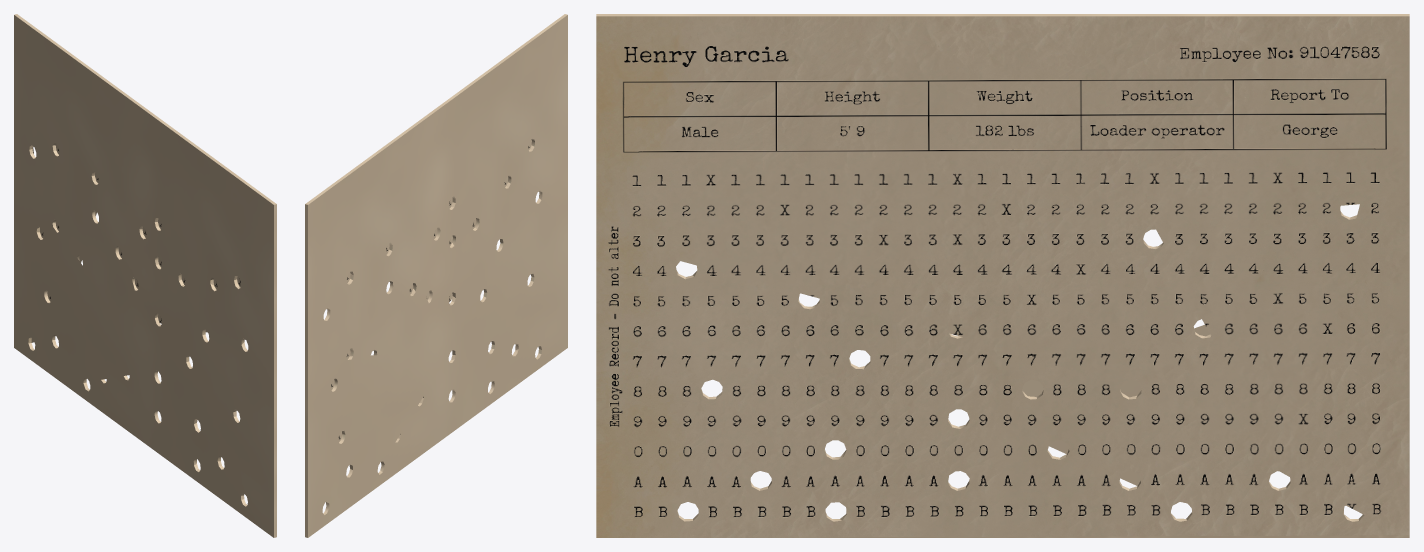
Rendered from employeeCard07Aadi.fbx.
The picture shows the model from 3 angles, left to right: view 1: azimuth 30°, elevation 25°; view 2: azimuth 150°, elevation 25°; view 3: azimuth 270°, elevation 25°; orthographic projection. The views are drawn at different scales.
Parts seen in each view (by area): view 1: Employee 07 Card Puzzle Punched; view 2: Employee 07 Card Puzzle Punched; view 3: Employee 07 Card Puzzle Punched.
Part boxes in pixels (x1=…): Employee 07 Card Puzzle Punched: x1=14, y1=14, x2=276, y2=537; Employee 07 Card Puzzle Punched: x1=305, y1=14, x2=567, y2=537; Employee 07 Card Puzzle Punched: x1=596, y1=14, x2=1409, y2=537.
Size of the model in its own units: 0.9779 by 100 by 141.
Materials: 1 (1 with a texture image).
